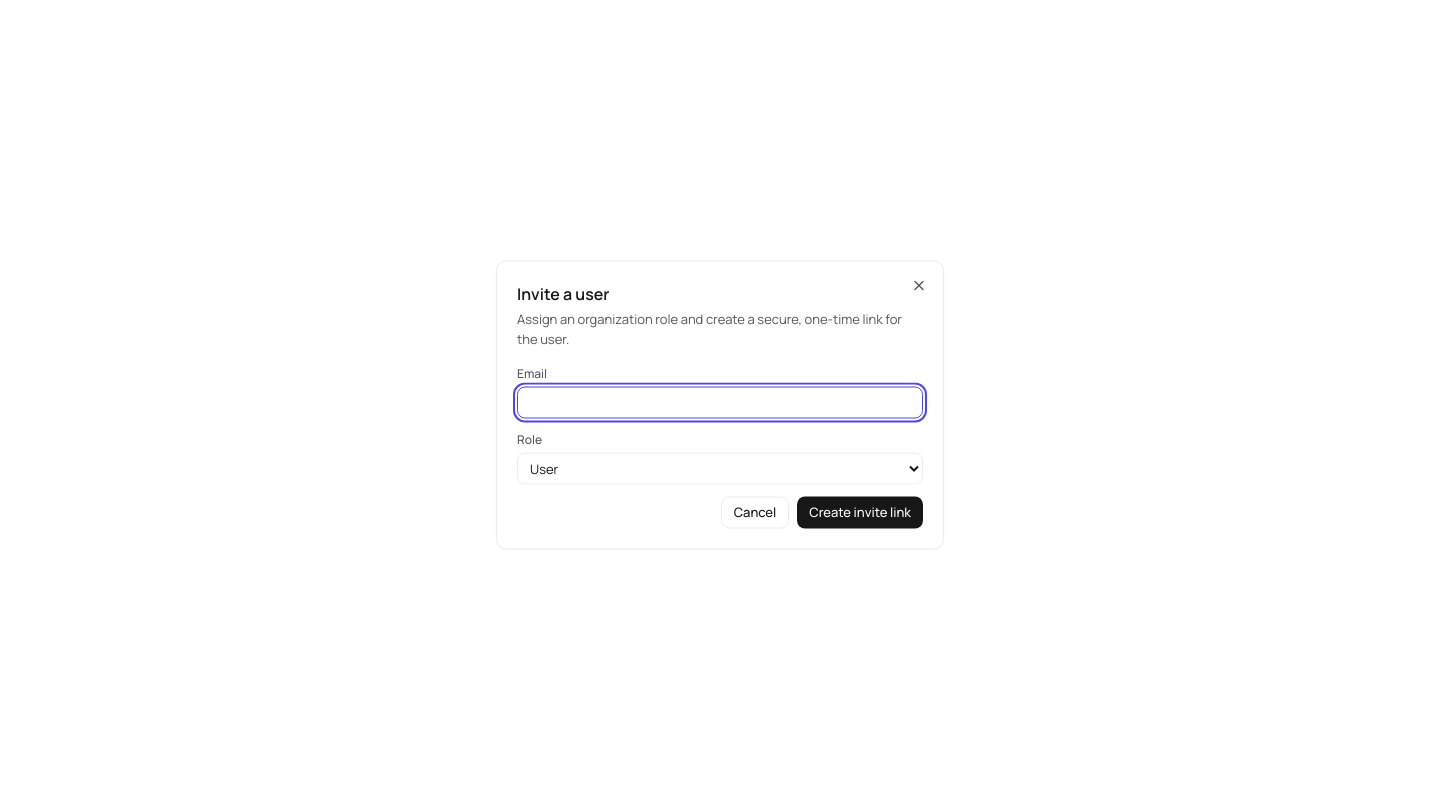
Test: renders an authorization error and keeps the invitation form
The width and height of the screenshot is (1440, 810).
Type "new@acme.com" into the field labelled "Email" at (720, 402), box [517, 386, 923, 418]
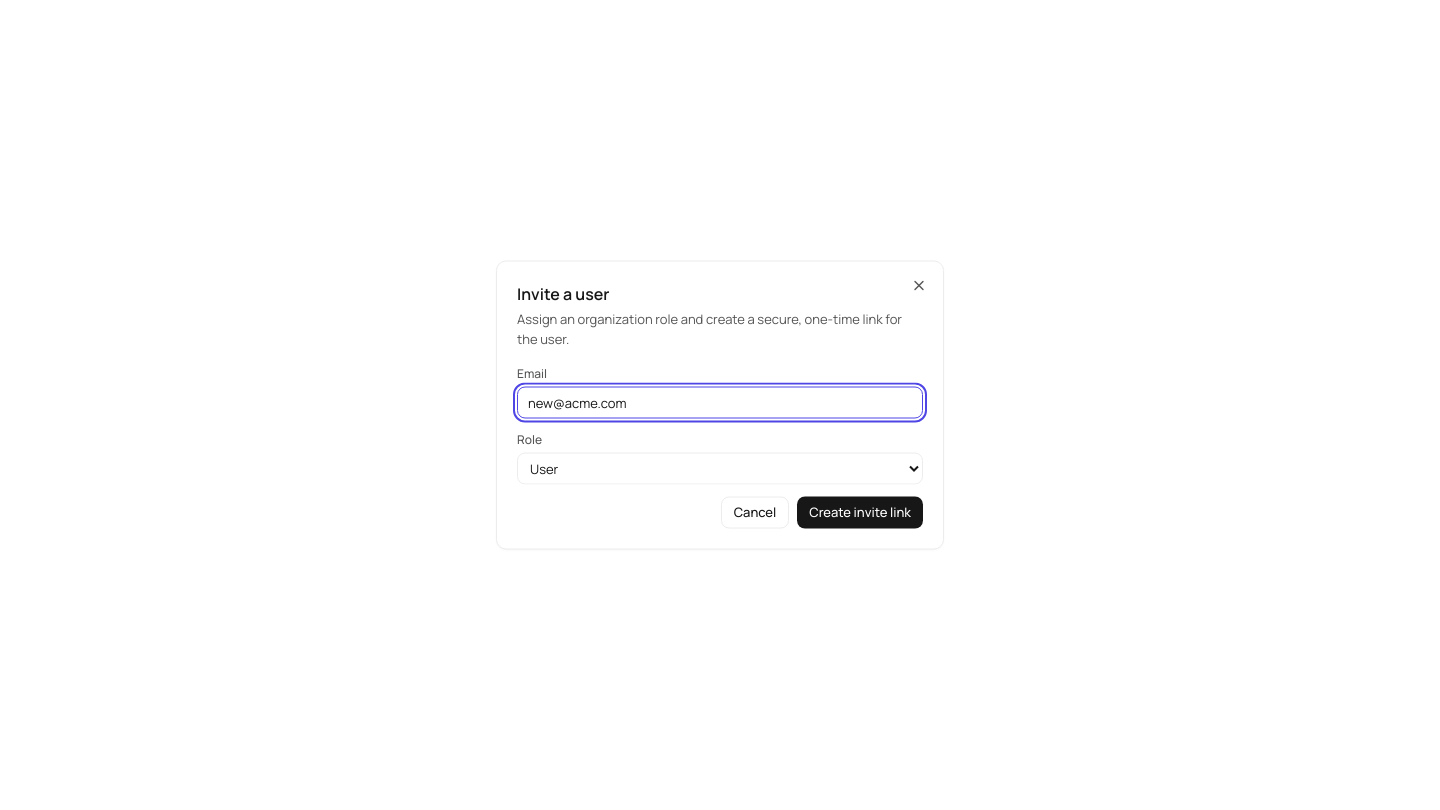
Click the button "Create invite link" at (860, 512), box [797, 496, 923, 528]
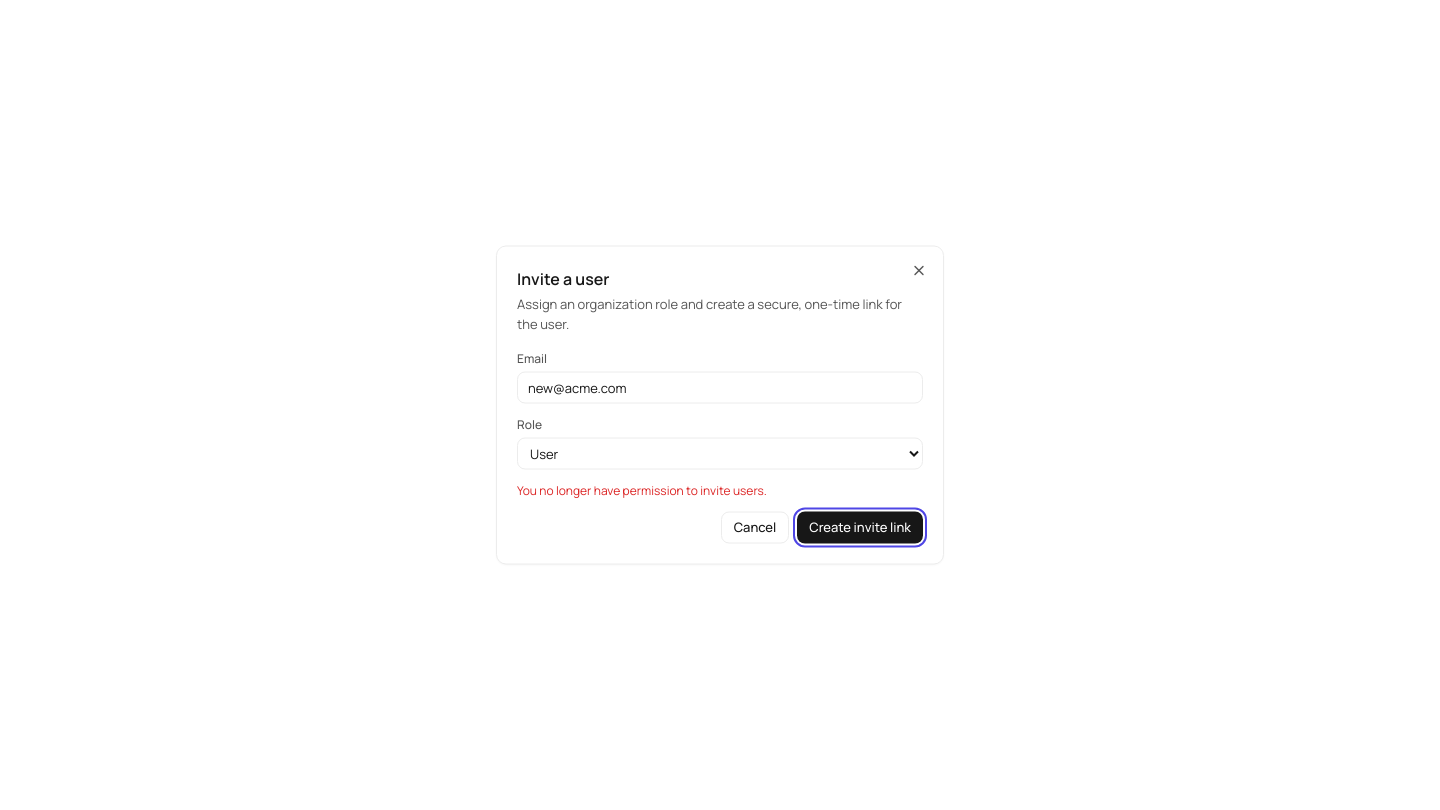
Check: the message reads "You no longer have permission to invite users.", box [517, 482, 767, 498]
